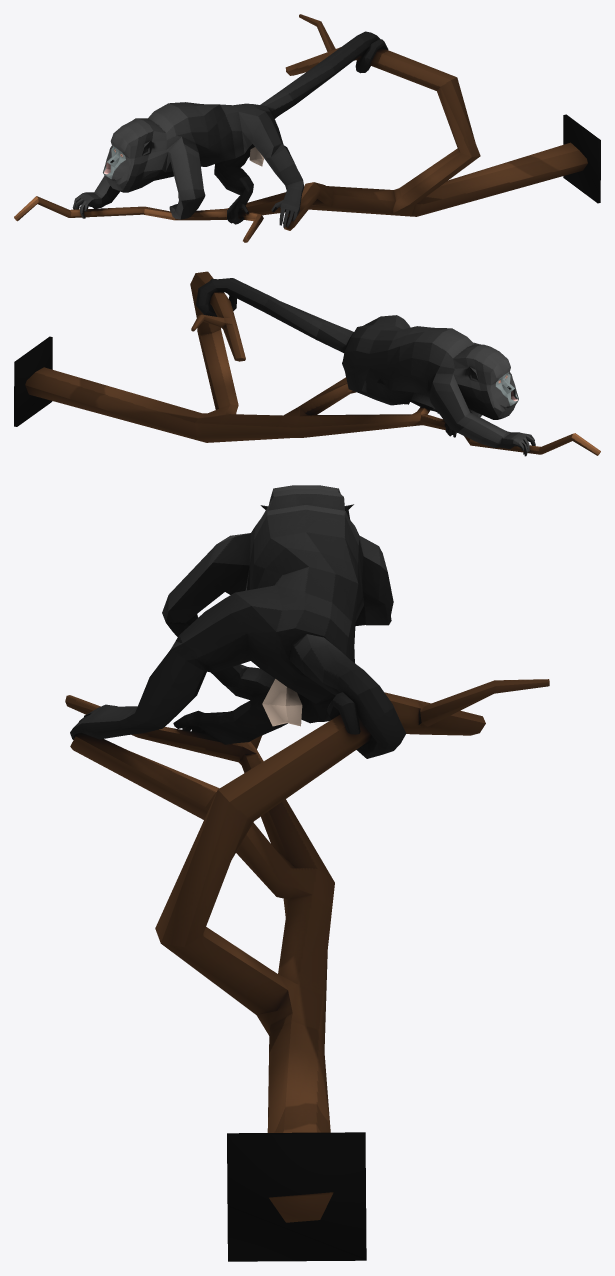
The model's file is howler.glb.
3 renders of one model, top to bottom at view 1: azimuth 30°, elevation 25°; view 2: azimuth 150°, elevation 25°; view 3: azimuth 270°, elevation 25°, orthographic. The views are drawn at different scales.
Bounding box in the file's own units: 1.45 × 0.4719 × 0.5351.
Materials: 1 (1 with a texture image).
